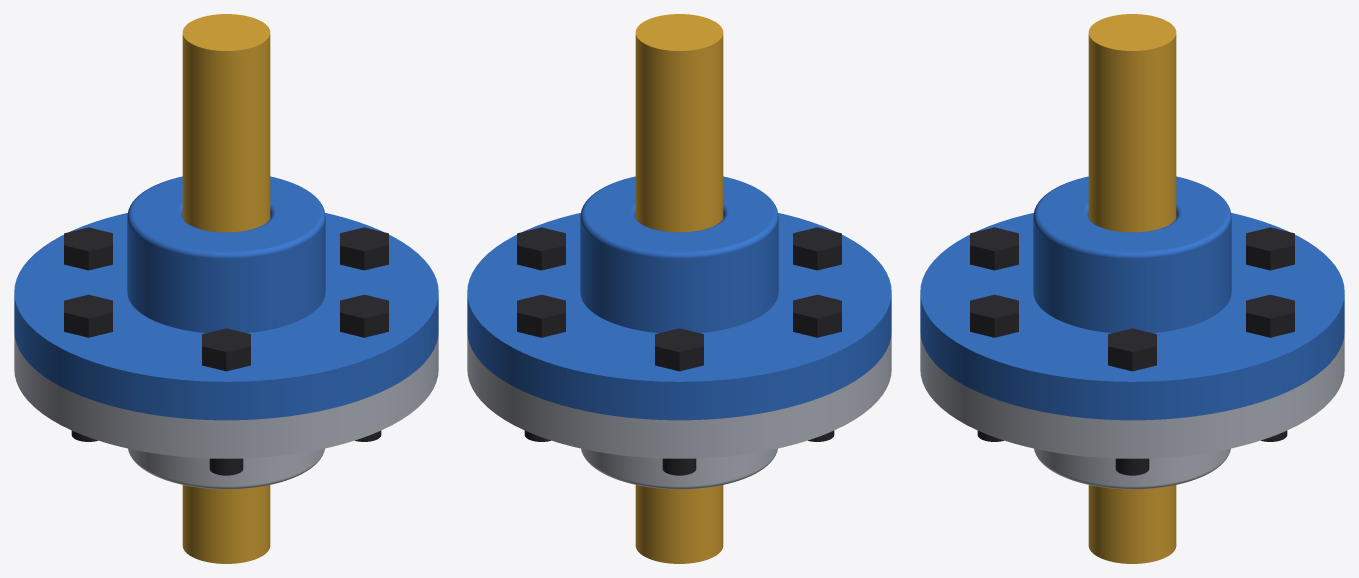
File: acoplamento.glb
The picture shows the model from 3 angles, left to right: view 1: azimuth 30°, elevation 25°; view 2: azimuth 150°, elevation 25°; view 3: azimuth 270°, elevation 25°; orthographic projection.
Visible parts, largest first — view 1: flange_superior, eixo, flange_inferior, parafuso_5, parafuso_4, parafuso_6, parafuso_1, parafuso_3; view 2: flange_superior, eixo, flange_inferior, parafuso_3, parafuso_2, parafuso_4, parafuso_1, parafuso_5; view 3: flange_superior, eixo, flange_inferior, parafuso_1, parafuso_2, parafuso_6, parafuso_3, parafuso_5.
Boxes of the visible parts, x1=… form: flange_superior: x1=14, y1=176, x2=438, y2=420; eixo: x1=182, y1=14, x2=270, y2=563; flange_inferior: x1=14, y1=333, x2=438, y2=489; parafuso_5: x1=202, y1=328, x2=250, y2=475; parafuso_4: x1=64, y1=294, x2=112, y2=441; parafuso_6: x1=340, y1=294, x2=388, y2=441; parafuso_1: x1=340, y1=227, x2=388, y2=270; parafuso_3: x1=64, y1=227, x2=112, y2=270; flange_superior: x1=467, y1=176, x2=891, y2=420; eixo: x1=635, y1=14, x2=723, y2=563; flange_inferior: x1=467, y1=333, x2=891, y2=489; parafuso_3: x1=655, y1=328, x2=703, y2=475; parafuso_2: x1=517, y1=294, x2=565, y2=441; parafuso_4: x1=793, y1=294, x2=841, y2=441; parafuso_1: x1=517, y1=227, x2=565, y2=270; parafuso_5: x1=793, y1=227, x2=841, y2=270; flange_superior: x1=920, y1=176, x2=1344, y2=420; eixo: x1=1088, y1=14, x2=1176, y2=563; flange_inferior: x1=920, y1=333, x2=1344, y2=489; parafuso_1: x1=1108, y1=328, x2=1156, y2=475; parafuso_2: x1=1246, y1=294, x2=1294, y2=441; parafuso_6: x1=970, y1=294, x2=1018, y2=441; parafuso_3: x1=1246, y1=227, x2=1294, y2=270; parafuso_5: x1=970, y1=227, x2=1018, y2=270.
Bounding box in the file's own units: 120 × 160 × 120.
